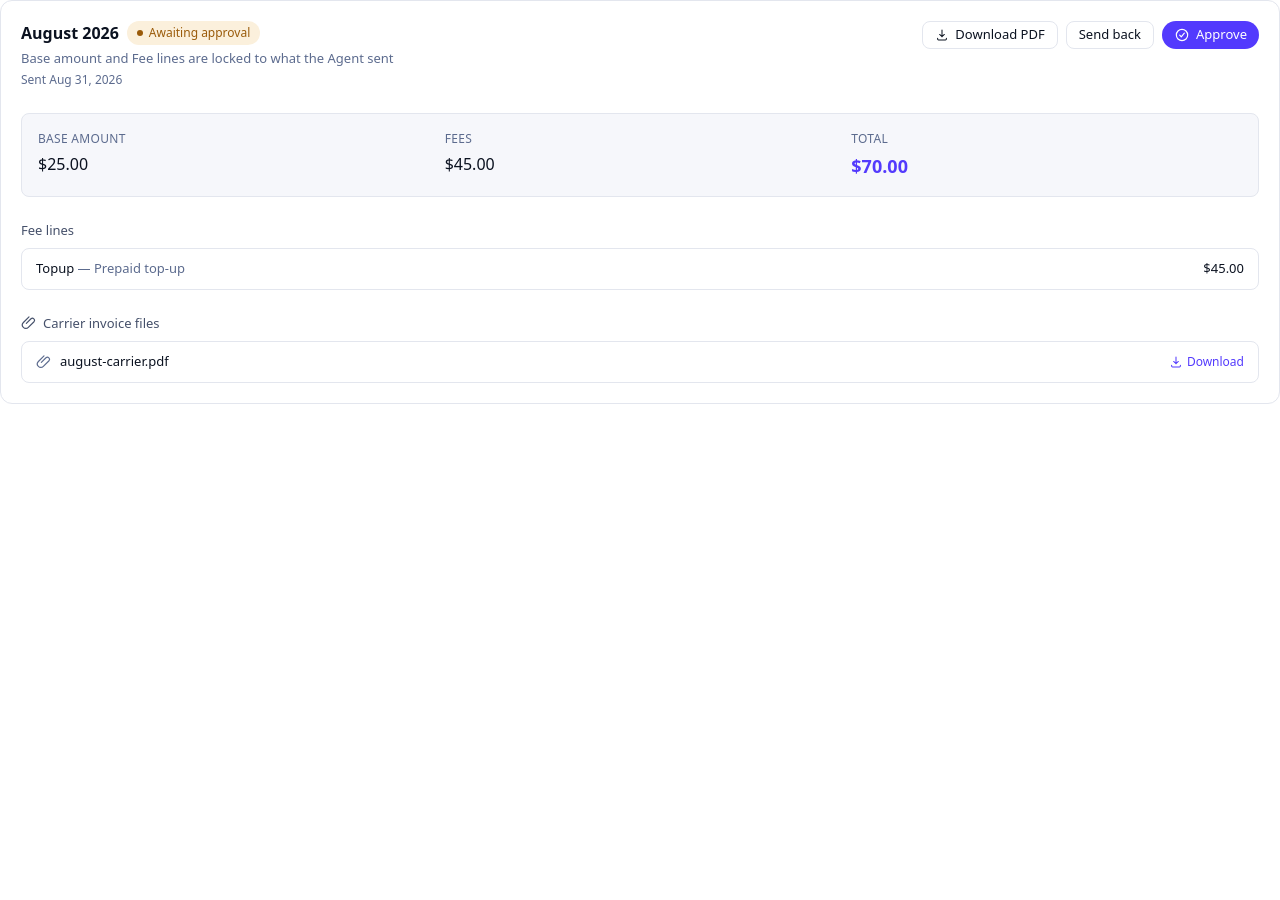
Test: ClientInvoiceDetailView › send back › sent-back-draft-shows-note-and-quoted-reason
Click the button "Send back".
click(1110, 35)  # box [1066,21,1154,49]
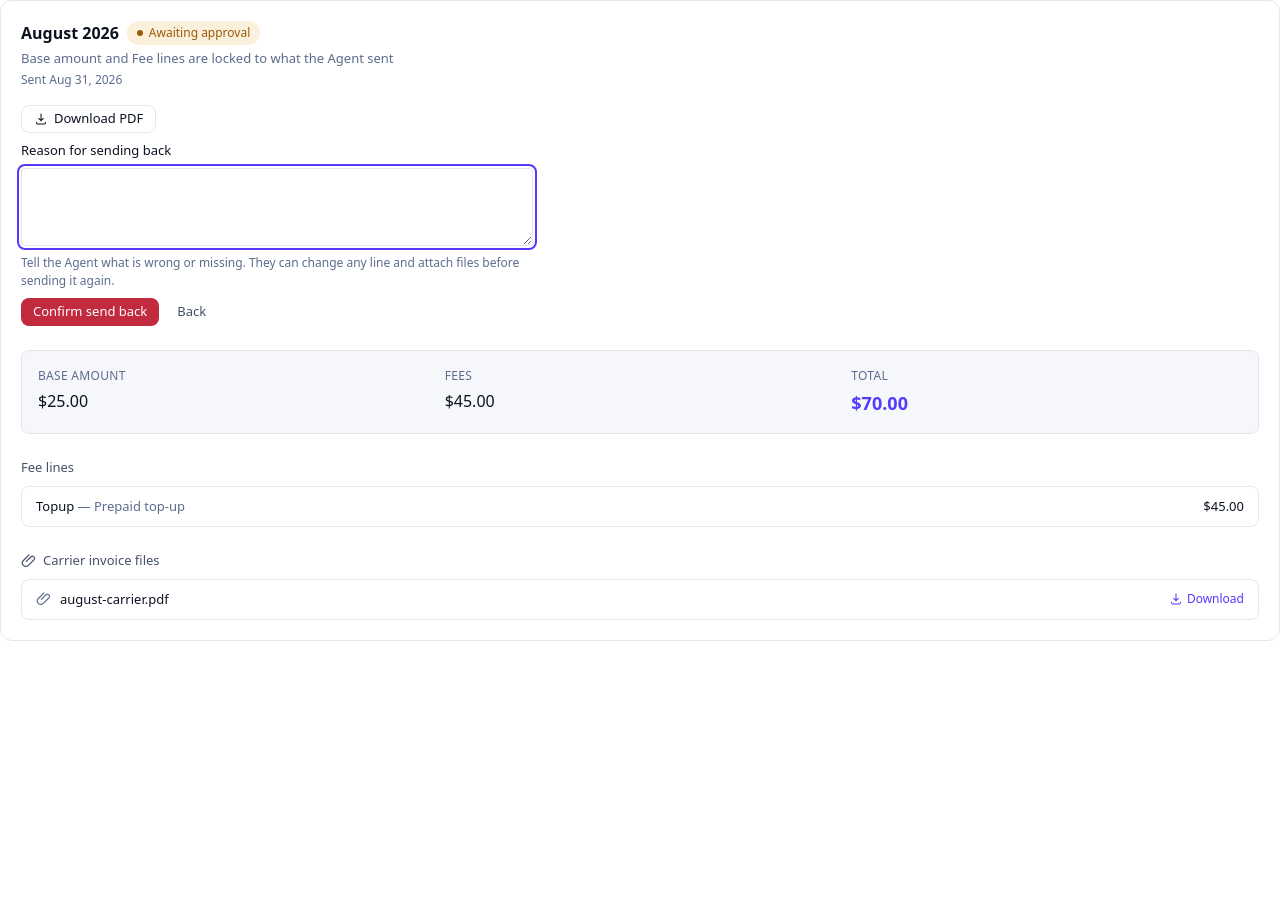
Type "The top-up Fee is wrong" into the text box labelled "Reason for sending back".
click(277, 207); type("The top-up Fee is wrong")  # box [21,168,533,246]
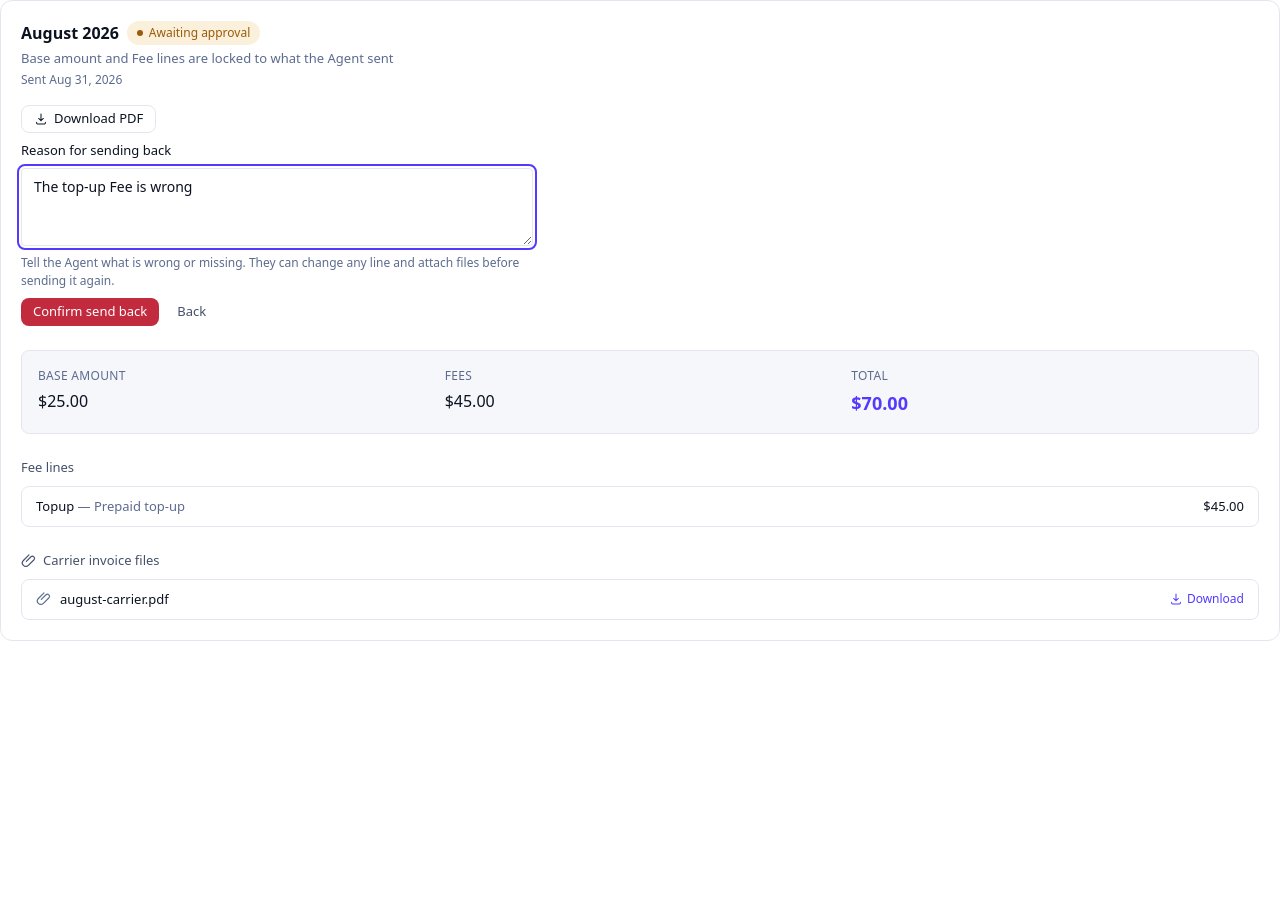
Click the button "Confirm send back".
click(90, 312)  # box [21,298,159,326]
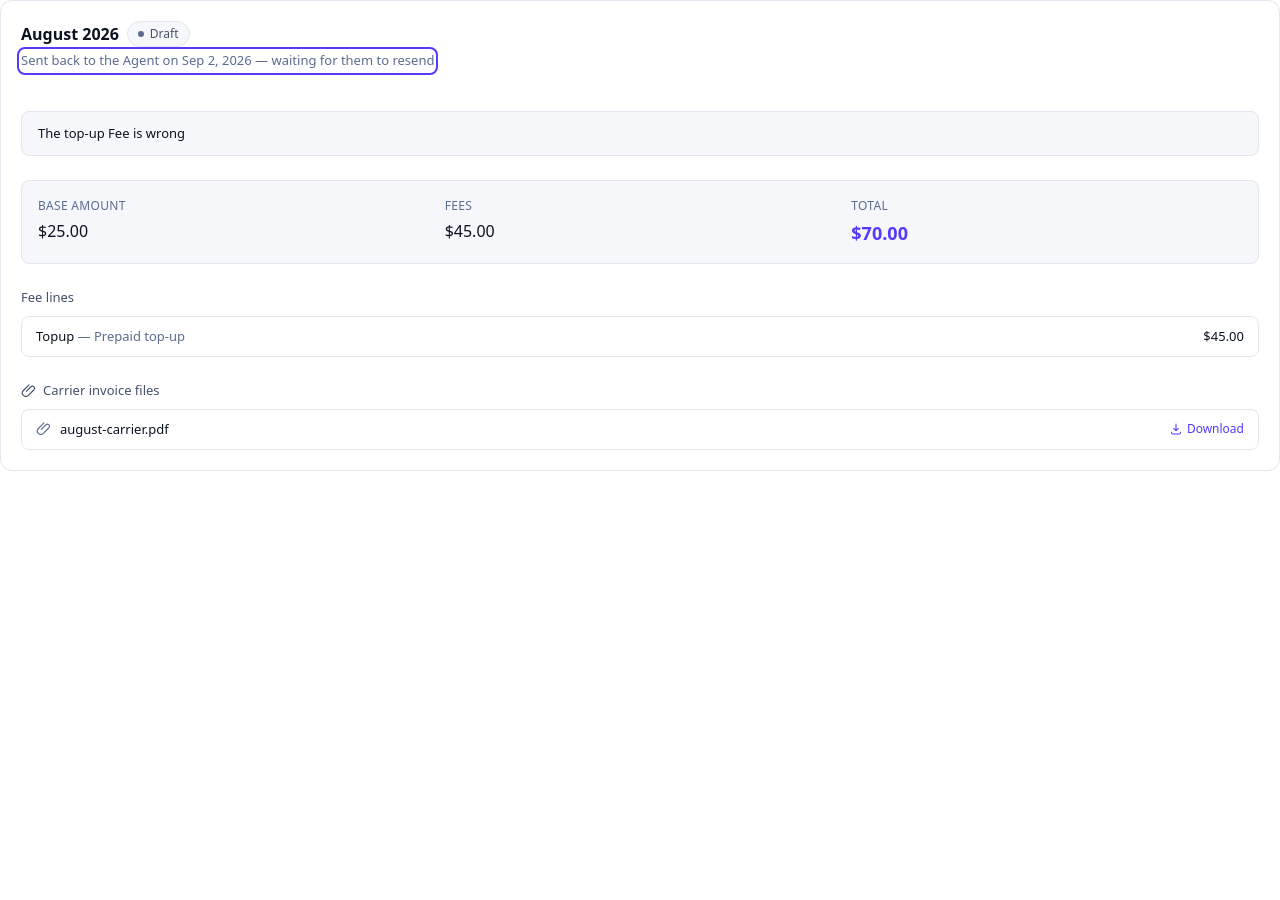
Check: the text "Sent back to the Agent on Sep 2, 2026 — waiting for them to resend" is shown, box [21,51,434,70]
Check: the element showing "The top-up Fee is wrong" is shown, box [21,110,1259,156]
Check: the button "send back" is gone
